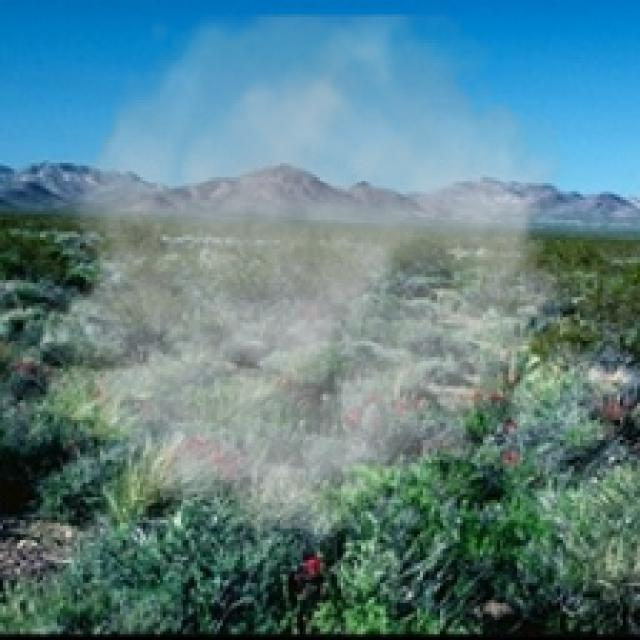smoke: (34, 14, 583, 529)
